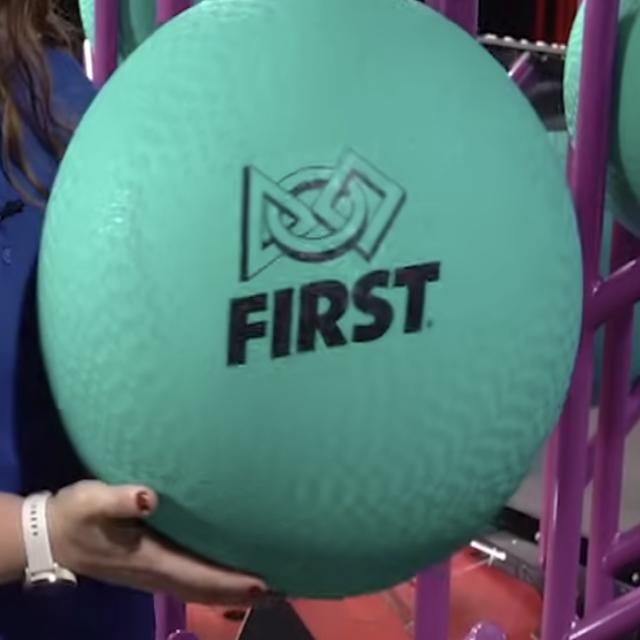Algae: (38, 0, 584, 599), (545, 131, 640, 406), (562, 0, 639, 235), (79, 0, 198, 65)
Reef: (582, 382, 639, 484), (560, 586, 639, 640), (587, 262, 640, 326), (94, 0, 118, 90), (602, 522, 639, 578), (508, 58, 534, 85)
